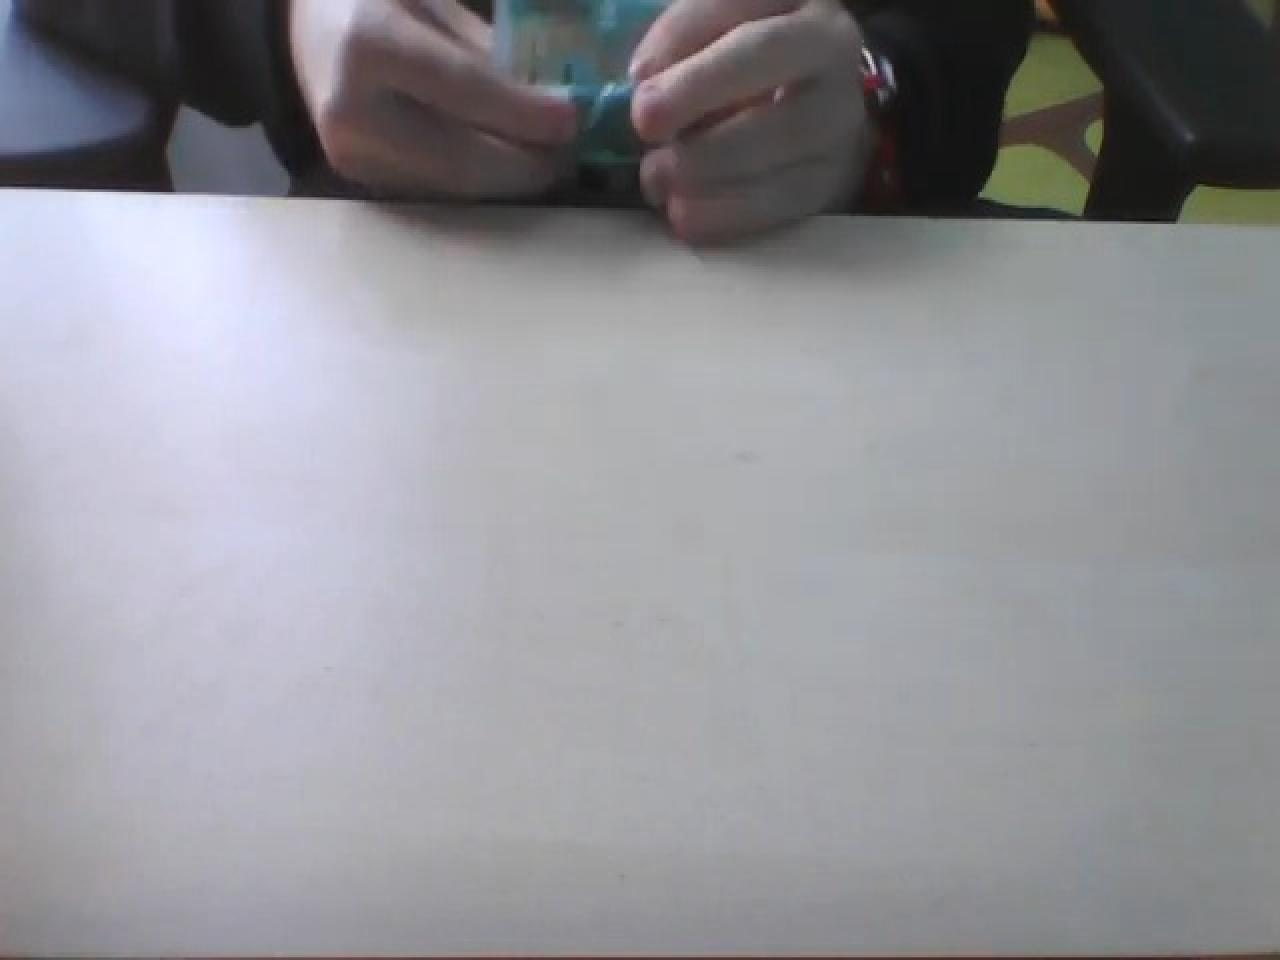100leva: (528, 70, 648, 170)
